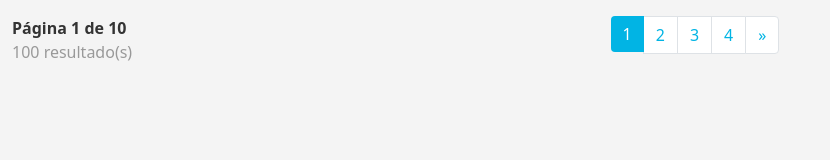
Scenario: Pagination component › should go to the next page by clicking the button
The width and height of the screenshot is (830, 160).
What coordinates should you click on to do the following:
click the button with test id "btn-page-2"
I would click on:
 (660, 35)
Its box is [643,16,678,54].
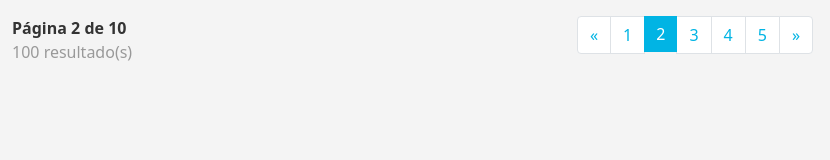
Now the text "Página 2 de 10" is shown, box [12,16,126,40]
